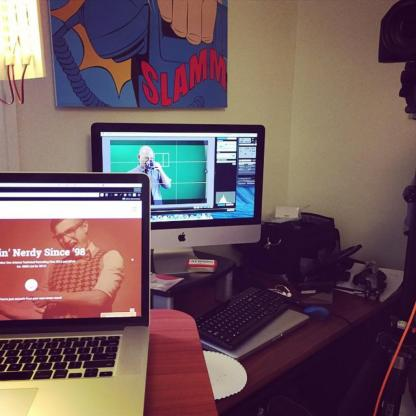board: (5, 155, 150, 409)
